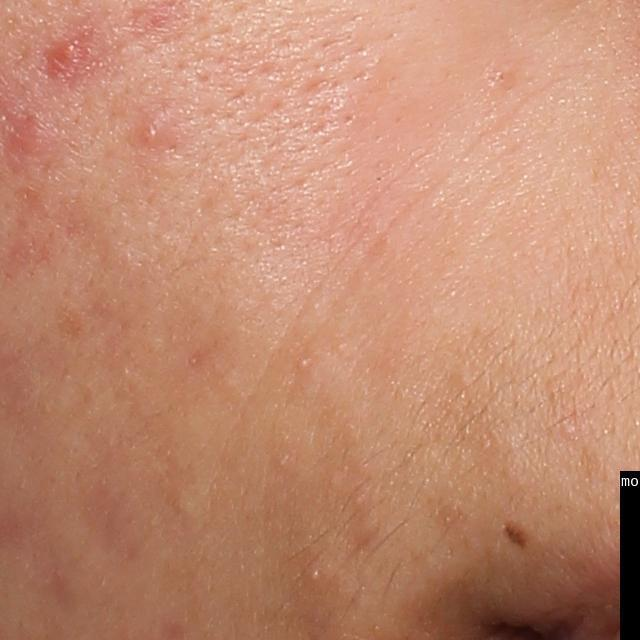comedo: (168, 486, 196, 517), (304, 564, 325, 582), (294, 352, 312, 372)
nevus: (500, 521, 531, 551)
papule: (128, 113, 174, 161), (50, 40, 77, 70)
